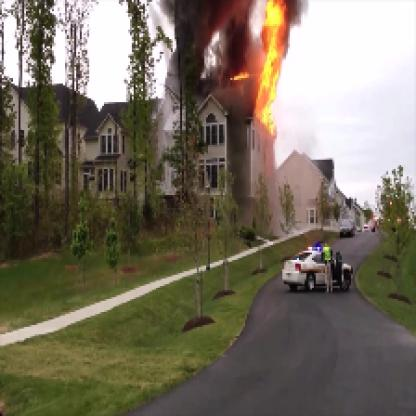Fire: (227, 2, 295, 134)
Smoke: (152, 2, 253, 93)
